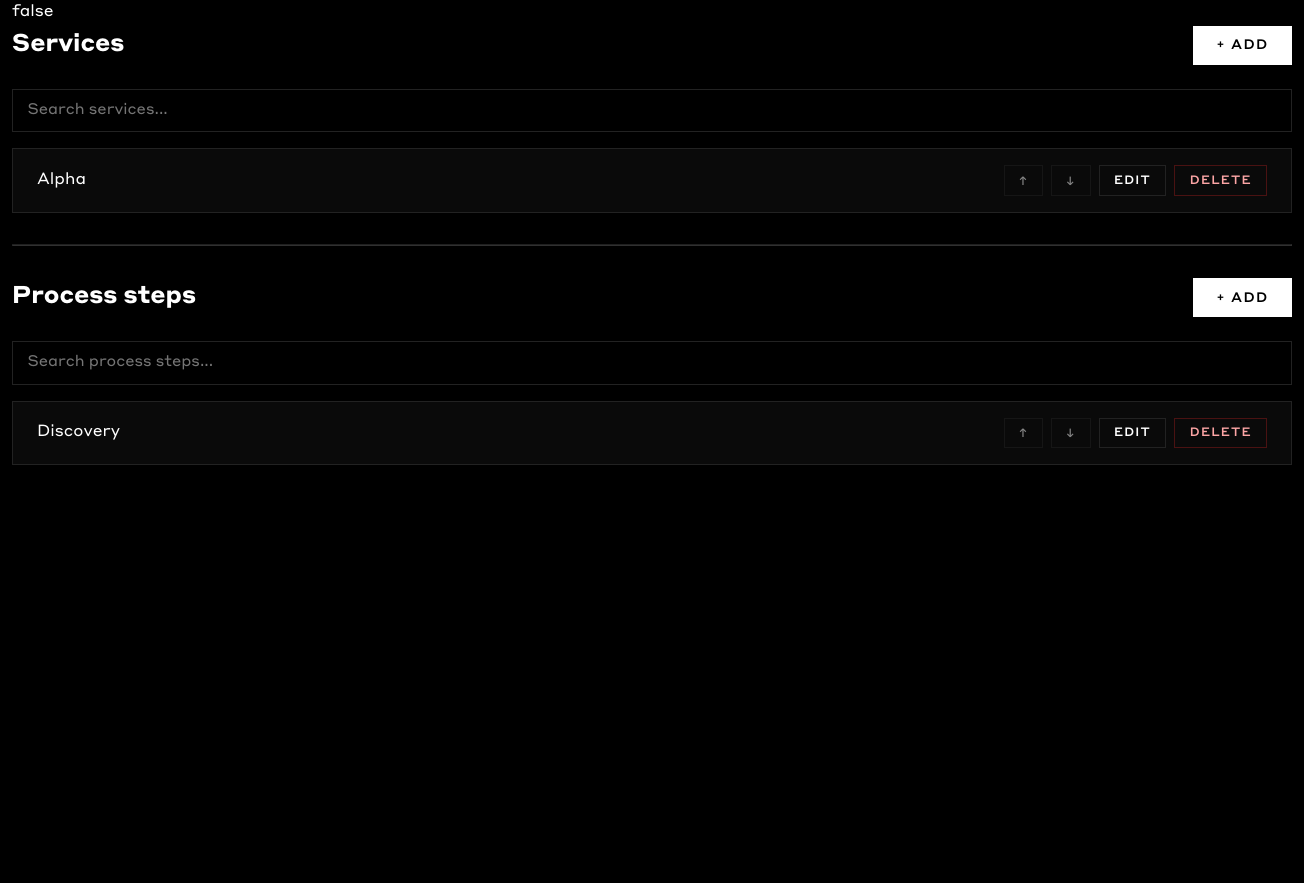
Test: ConsultingTab › merges the two editors into one dirty flag and settles (no update loop)
The width and height of the screenshot is (1304, 883).
Check: the text with test id "dirty" reads "false", box x1=12 y1=4 x2=54 y2=20
Click the button "+ Add" in the row of "Services" at (1242,45), box x1=1193 y1=26 x2=1292 y2=65
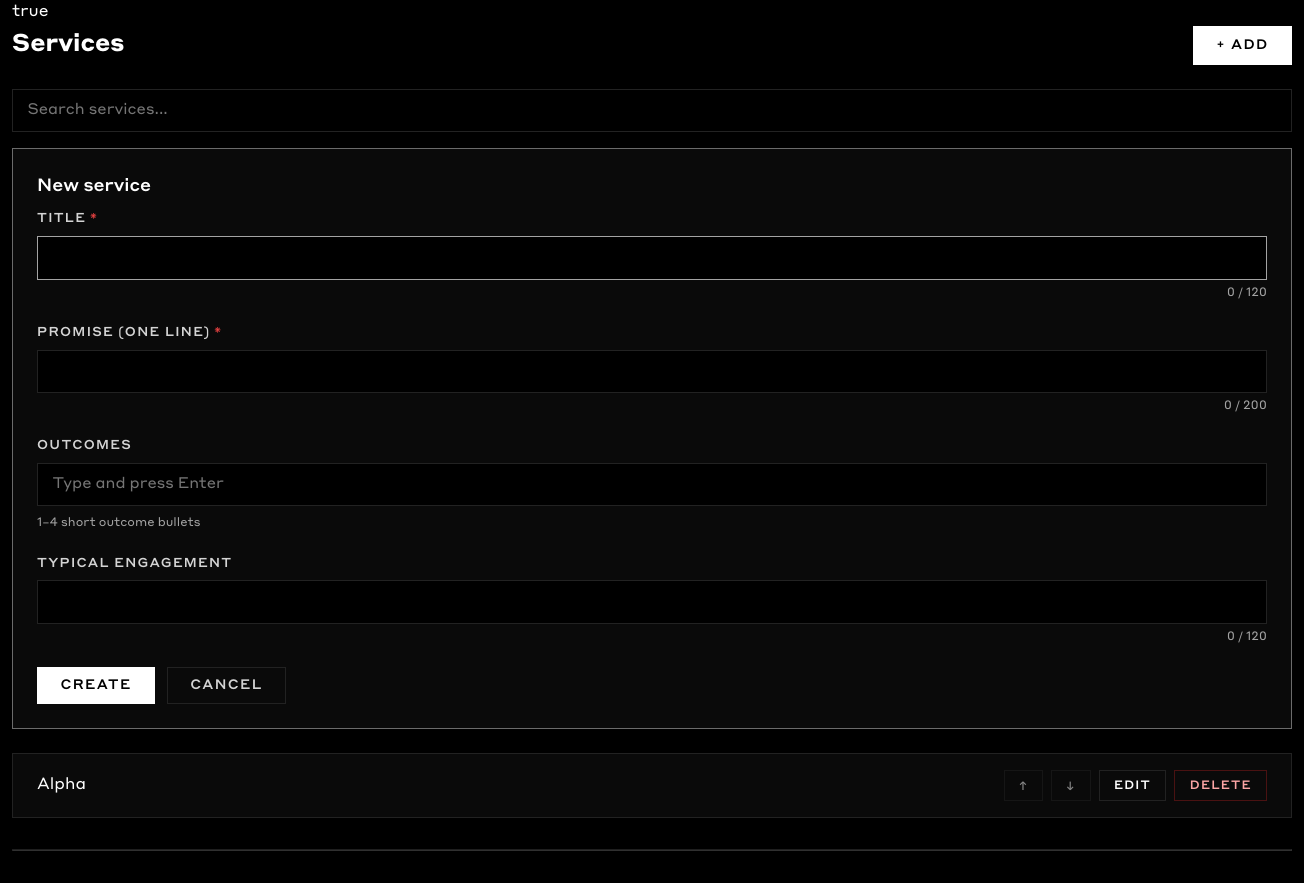
Check: the text with test id "dirty" reads "true", box x1=12 y1=4 x2=48 y2=20
